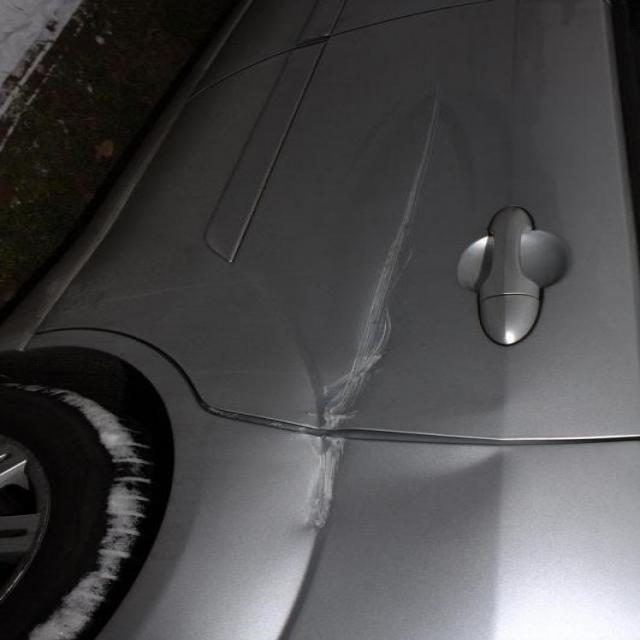scratch: (232, 234, 450, 554)
